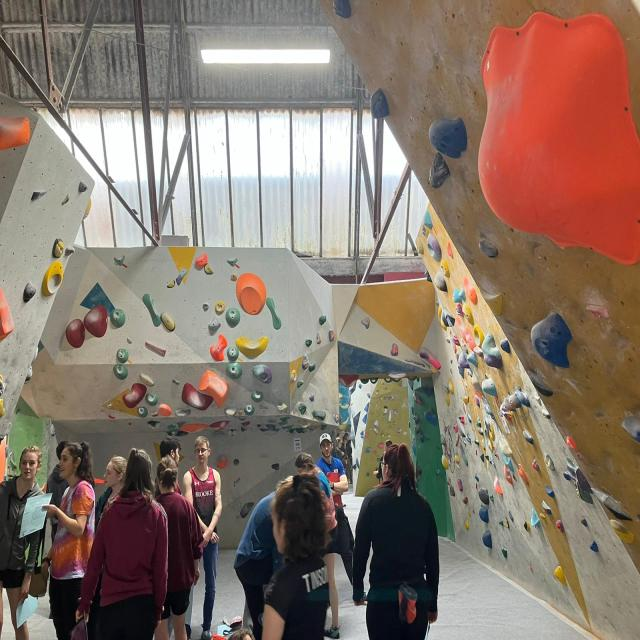Jug: (529, 311, 581, 368), (427, 115, 472, 161), (367, 84, 393, 124), (234, 336, 272, 360), (429, 157, 453, 189), (21, 283, 37, 304), (62, 242, 76, 260), (389, 341, 400, 360), (77, 178, 88, 196), (308, 359, 316, 375), (319, 312, 326, 326), (304, 339, 312, 350), (297, 379, 305, 389)
Pocket: (40, 258, 66, 301), (251, 362, 275, 385), (223, 307, 243, 330), (110, 308, 127, 329), (224, 362, 244, 379), (112, 364, 129, 380), (250, 389, 266, 404), (114, 349, 130, 363), (213, 300, 226, 316), (227, 345, 240, 360), (288, 367, 298, 386), (243, 402, 255, 417)
Sloper: (479, 8, 640, 272), (62, 303, 112, 351), (180, 370, 232, 412), (234, 271, 268, 318), (0, 114, 33, 154), (83, 303, 112, 341), (0, 282, 16, 345), (179, 381, 212, 411), (64, 314, 87, 351), (141, 292, 163, 330), (122, 380, 149, 408), (208, 332, 230, 363), (424, 232, 444, 262), (142, 341, 170, 359), (331, 0, 354, 20), (160, 310, 178, 333), (114, 255, 128, 268)
